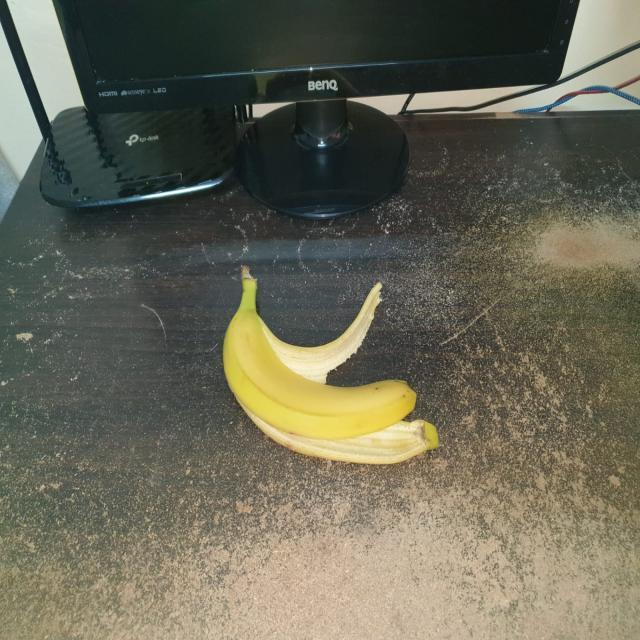banana-peel: (221, 263, 439, 465)
